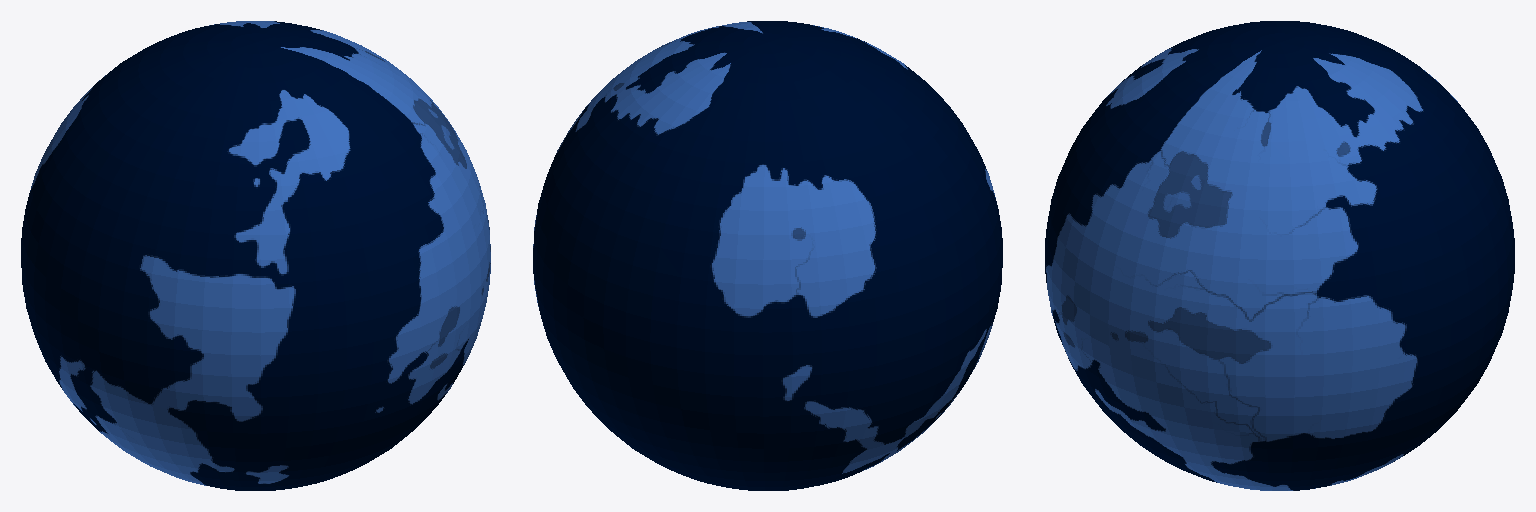
The picture shows the model from 3 angles: view 1: azimuth 30°, elevation 25°; view 2: azimuth 150°, elevation 25°; view 3: azimuth 270°, elevation 25°; orthographic projection.
Parts seen in each view (by area): view 1: Sphere; view 2: Sphere; view 3: Sphere.
Part boxes in pixels (bbox=[...]): Sphere: bbox=[21, 21, 490, 490]; Sphere: bbox=[533, 21, 1002, 490]; Sphere: bbox=[1045, 21, 1514, 490].
Bounding box in the file's own units: 2 × 2 × 2.
Materials: 1 (1 with a texture image).